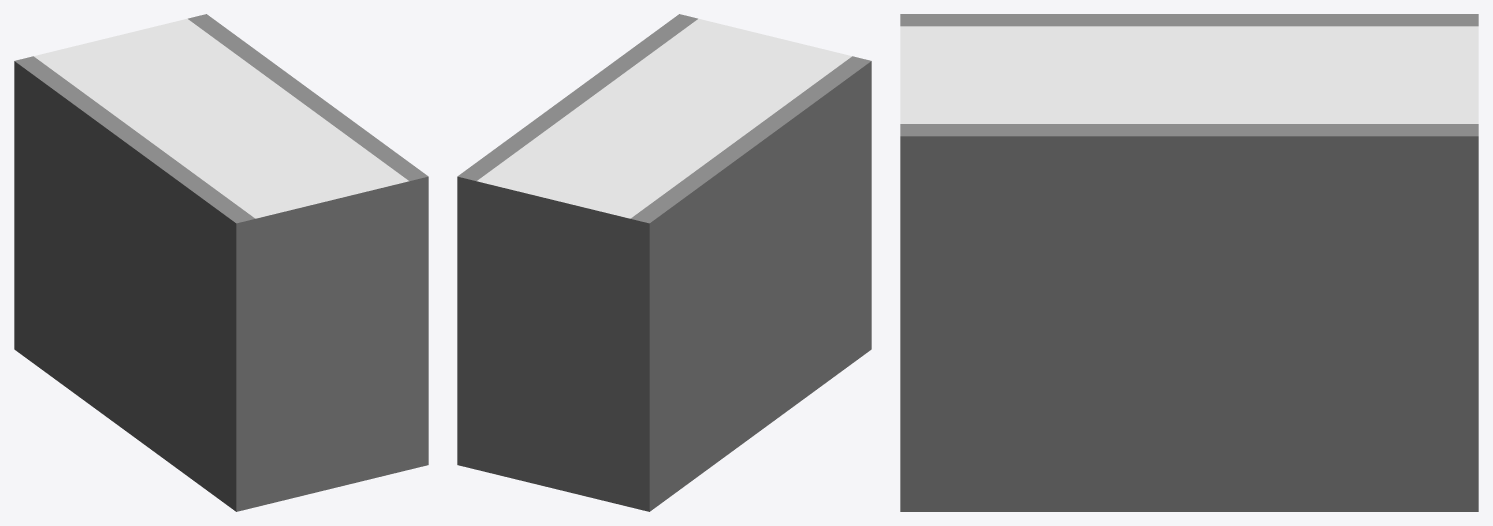
Rendered from flatchunk.fbx.
The picture shows the model from 3 angles, left to right: view 1: azimuth 30°, elevation 25°; view 2: azimuth 150°, elevation 25°; view 3: azimuth 270°, elevation 25°; orthographic projection. The views are drawn at different scales.
Parts seen in each view (by area): view 1: flatchunk; view 2: flatchunk; view 3: flatchunk.
Part boxes in pixels (x1,y1,x2,y2): flatchunk: (14, 14, 428, 511); flatchunk: (457, 14, 871, 511); flatchunk: (900, 14, 1478, 511).
Size of the model in its own units: 50 by 100 by 71.67.
